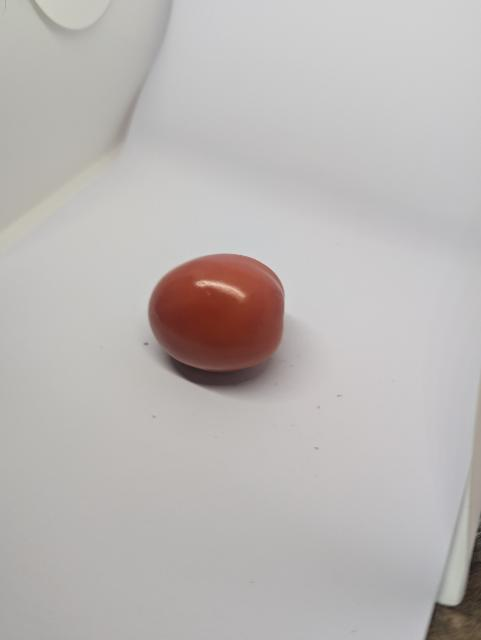red: (130, 248, 306, 378)
